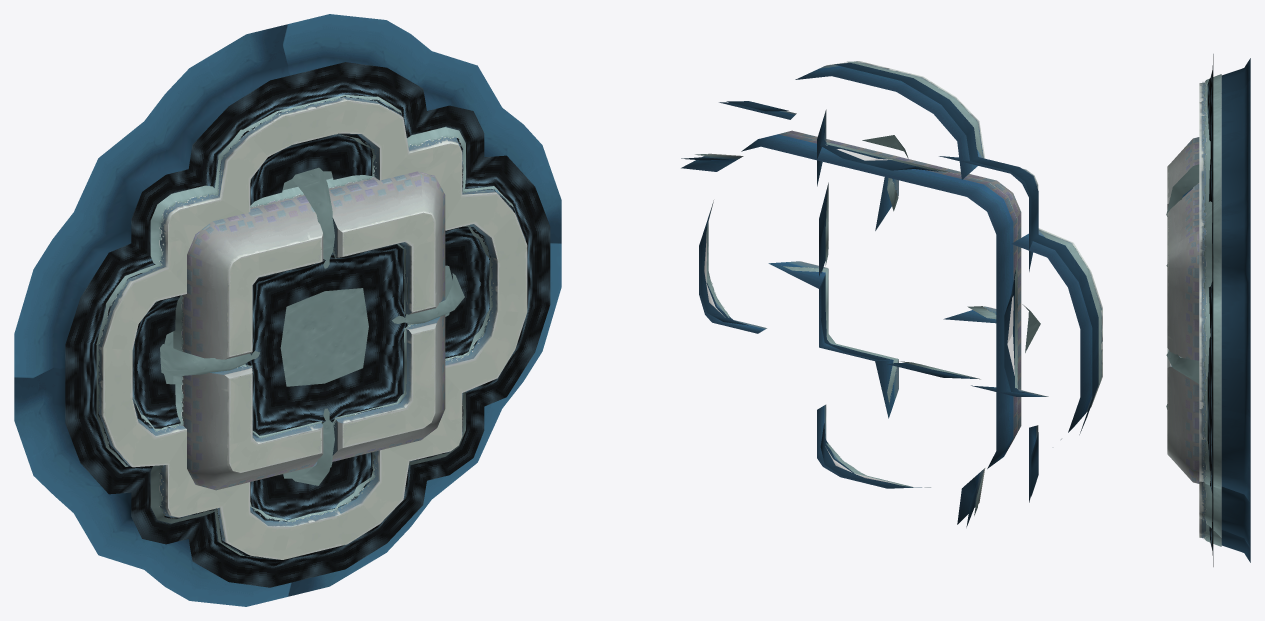
The model's file is fountain_centerpiece_winter.glb.
3 renders of one model, left to right at view 1: azimuth 30°, elevation 25°; view 2: azimuth 150°, elevation 25°; view 3: azimuth 270°, elevation 25°, orthographic. The views are drawn at different scales.
Parts seen in each view (by area): view 1: setpieces.fountain_centerpiece_winter-MeshNodes["fountainCen (×2), fountain.part_centerpiece_watersurface_ice-Mesh[1], fountain.part_centerpiece_watersurface_ice-Mesh[0], setpieces.fountain_centerpiece_winter-MeshNodes["shoreStatic; view 2: setpieces.fountain_centerpiece_winter-MeshNodes["fountainCen (×2), setpieces.fountain_centerpiece_winter-MeshNodes["shoreStatic, setpieces.fountain_centerpiece_winter-MeshNodes["refraction"; view 3: setpieces.fountain_centerpiece_winter-MeshNodes["fountainCen (×2), setpieces.fountain_centerpiece_winter-MeshNodes["shoreStatic, fountain.part_centerpiece_watersurface_ice-Mesh[1], fountain.part_centerpiece_watersurface_ice-Mesh[0].
Boxes of the visible parts, x1,y1,x2,y2 form: setpieces.fountain_centerpiece_winter-MeshNodes["fountainCen (×2): (14,14,561,606); fountain.part_centerpiece_watersurface_ice-Mesh[1]: (65,62,550,587); fountain.part_centerpiece_watersurface_ice-Mesh[0]: (155,167,464,485); setpieces.fountain_centerpiece_winter-MeshNodes["shoreStatic: (96,94,513,558); setpieces.fountain_centerpiece_winter-MeshNodes["fountainCen (×2): (681,61,1102,527); setpieces.fountain_centerpiece_winter-MeshNodes["shoreStatic: (695,61,1101,515); setpieces.fountain_centerpiece_winter-MeshNodes["refraction": (704,145,1014,484); setpieces.fountain_centerpiece_winter-MeshNodes["fountainCen (×2): (1167,58,1250,562); setpieces.fountain_centerpiece_winter-MeshNodes["shoreStatic: (1179,74,1221,546); fountain.part_centerpiece_watersurface_ice-Mesh[1]: (1207,54,1213,566); fountain.part_centerpiece_watersurface_ice-Mesh[0]: (1166,164,1199,409).
Bounding box in the file's own units: 9.29 × 9.29 × 1.31.
Materials: 5 (4 with a texture image).
